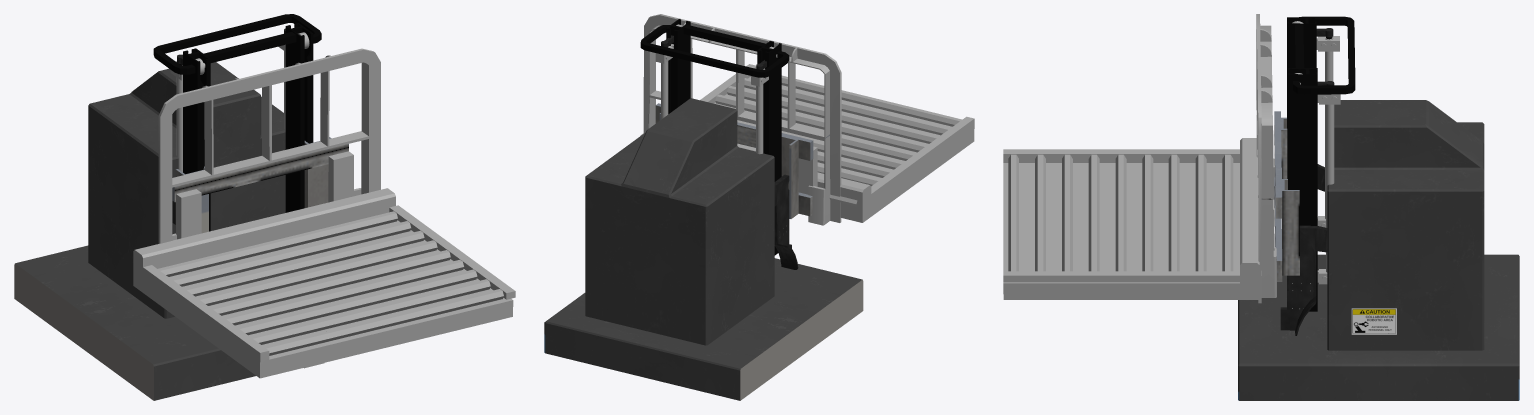
File: Tranfer_Forklift.glb
The picture shows the model from 3 angles, left to right: view 1: azimuth 30°, elevation 25°; view 2: azimuth 150°, elevation 25°; view 3: azimuth 270°, elevation 25°; orthographic projection. The views are drawn at different scales.
Visible parts, largest first — view 1: Transfer_Forklift_fork, Transfer_Forklift; view 2: Transfer_Forklift, Transfer_Forklift_fork; view 3: Transfer_Forklift, Transfer_Forklift_fork.
Part boxes in pixels (x1=…): Transfer_Forklift_fork: x1=133, y1=48, x2=515, y2=378; Transfer_Forklift: x1=14, y1=14, x2=321, y2=400; Transfer_Forklift: x1=544, y1=19, x2=863, y2=400; Transfer_Forklift_fork: x1=640, y1=14, x2=974, y2=225; Transfer_Forklift: x1=1238, y1=16, x2=1519, y2=400; Transfer_Forklift_fork: x1=1003, y1=14, x2=1299, y2=303.
Size of the model in its own units: 1.93 by 2.2 by 3.34.
5 materials, 4 textured.
